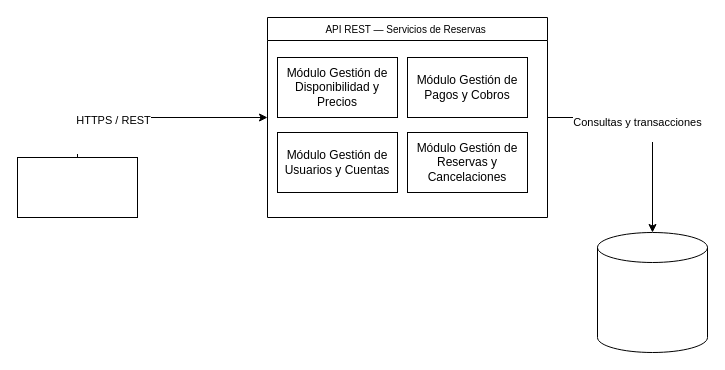
The diagram is 725 pixels wide and 370 high, and some of its shapes have lost their labels. Each missing label, with the centre of its shape:
"Aplicación Cliente Web / Móvil" belongs at (77,187).
"Base de Datos SportTime" belongs at (652,292).
